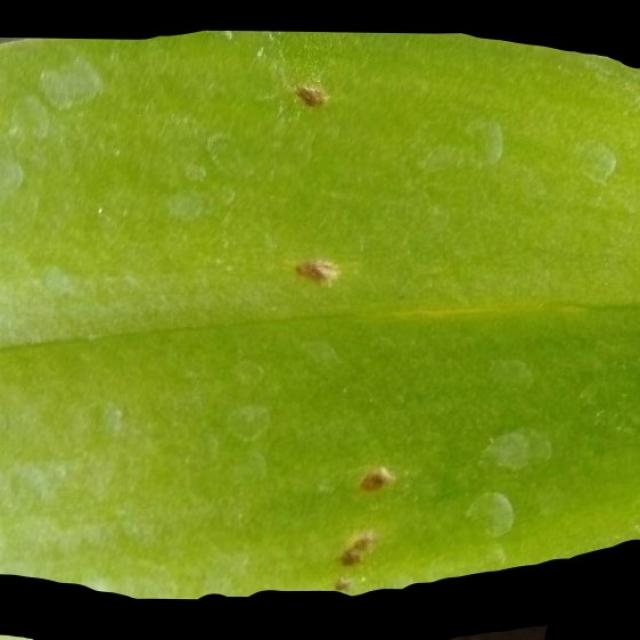mite: (327, 420, 556, 590), (476, 424, 552, 476), (35, 56, 104, 113), (462, 489, 516, 540), (461, 114, 506, 167), (223, 401, 272, 444), (575, 138, 618, 186), (163, 186, 210, 223), (0, 145, 26, 199), (227, 356, 265, 389), (359, 469, 385, 492)
spots: (0, 30, 639, 594)
sunburn: (290, 255, 340, 289), (289, 80, 329, 113)
